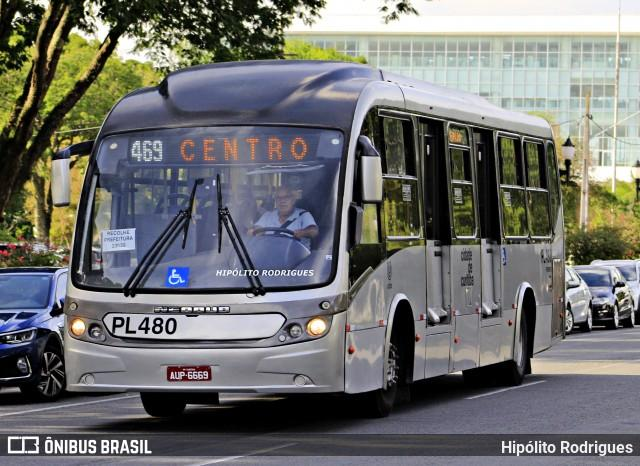CENTRO: (174, 131, 312, 166)
